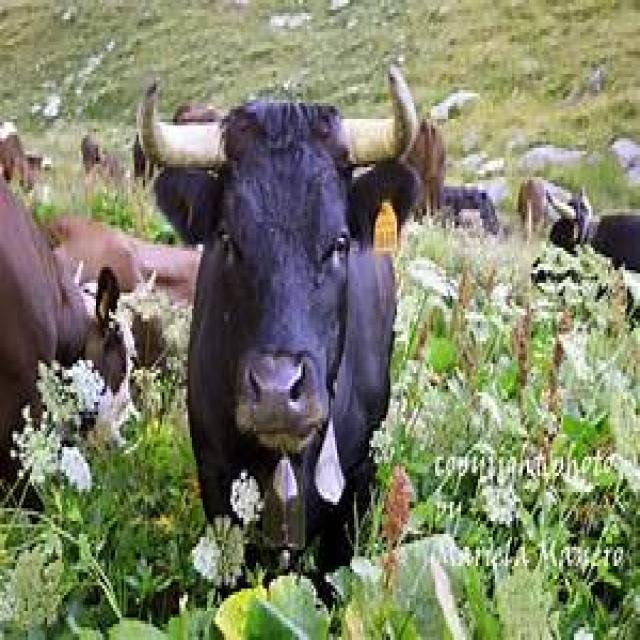cow: (137, 64, 448, 595)
